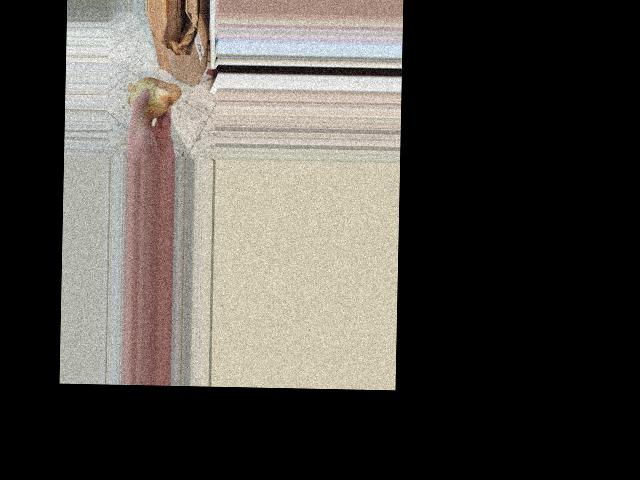onion: (125, 71, 179, 123)
